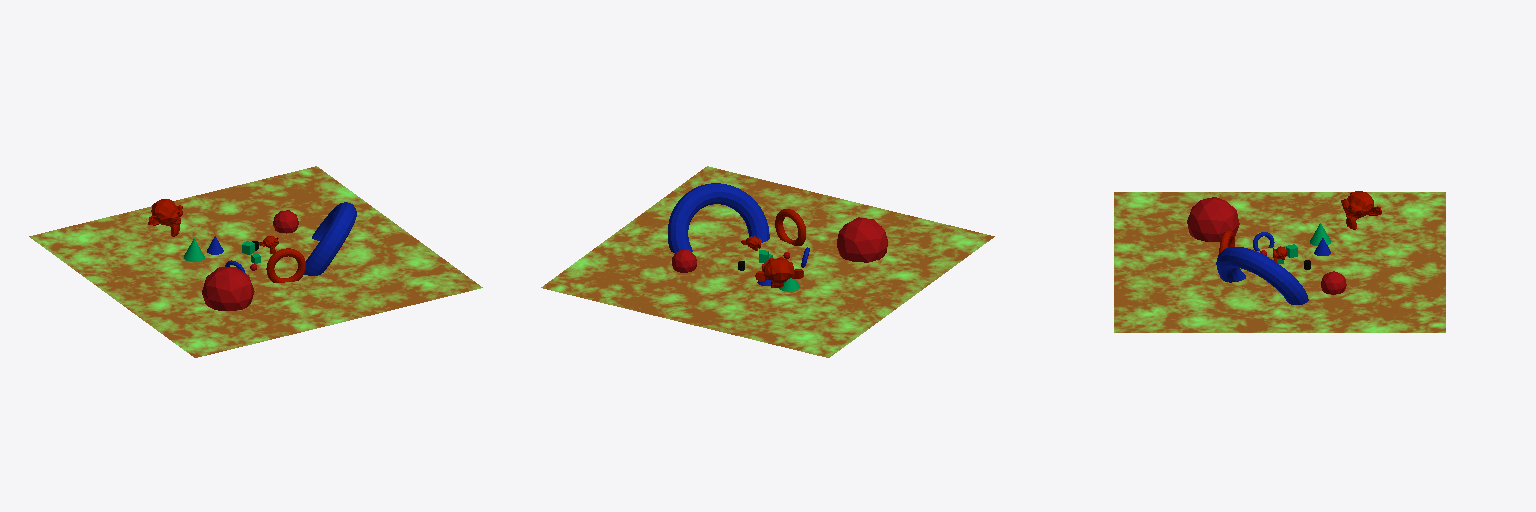
3 views of the same model, side by side, from view 1: azimuth 30°, elevation 25°; view 2: azimuth 150°, elevation 25°; view 3: azimuth 270°, elevation 25° (orthographic).
Parts seen in each view (by area): view 1: Ground, Torus.002, Icosphere.002_Icosphere.001, Suzanne.001, Torus.001; view 2: Ground, Torus.002, Icosphere.002_Icosphere.001, Suzanne.001, Torus.001; view 3: Ground, Torus.002, Icosphere.002_Icosphere.001, Suzanne.001.
Boxes of the visible parts, box(x1,y1,x2,y2) form: Ground: box(29, 166, 482, 357); Torus.002: box(304, 202, 356, 275); Icosphere.002_Icosphere.001: box(202, 267, 254, 310); Suzanne.001: box(148, 199, 182, 236); Torus.001: box(266, 248, 305, 282); Ground: box(541, 166, 994, 357); Torus.002: box(668, 183, 769, 252); Icosphere.002_Icosphere.001: box(837, 217, 887, 262); Suzanne.001: box(755, 257, 803, 287); Torus.001: box(775, 209, 805, 245); Ground: box(1114, 192, 1445, 332); Torus.002: box(1216, 247, 1308, 304); Icosphere.002_Icosphere.001: box(1187, 197, 1239, 241); Suzanne.001: box(1341, 191, 1381, 229).
Size of the model in its own units: 90.43 by 25.11 by 90.43.
7 materials, 2 textured.